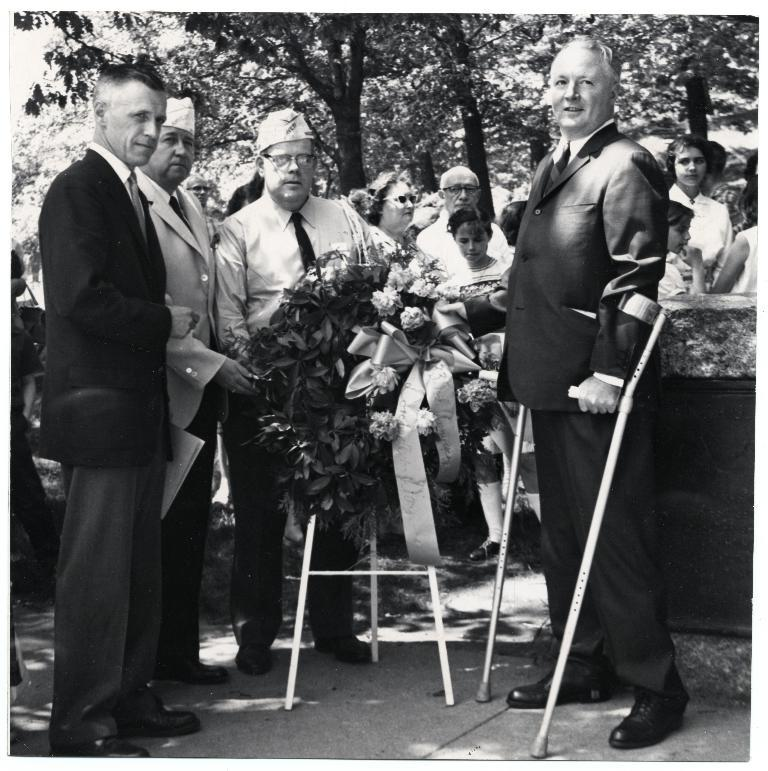crutches: (465, 32, 698, 768)
